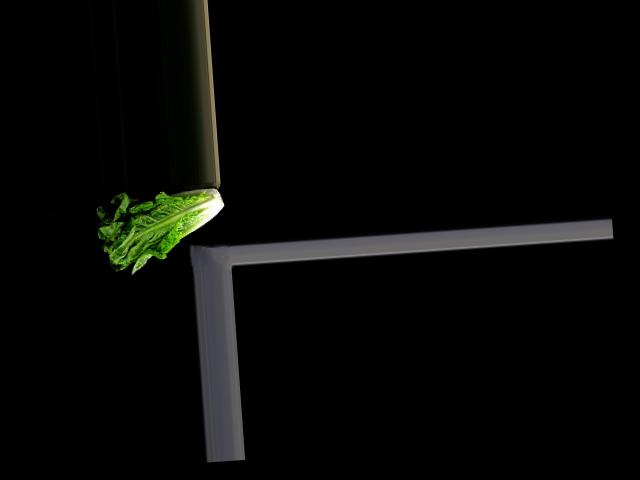lettuce: (92, 184, 230, 275)
